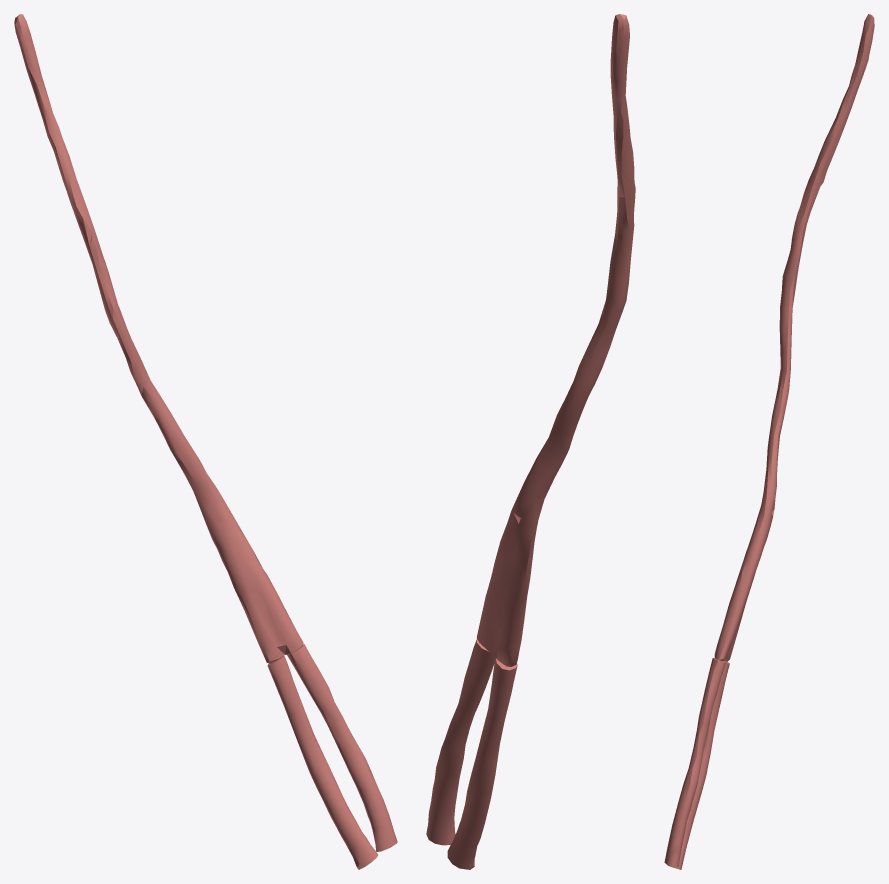
File: fma42554_mm1965m.glb
3 renders of one model, left to right at view 1: azimuth 30°, elevation 25°; view 2: azimuth 150°, elevation 25°; view 3: azimuth 270°, elevation 25°, orthographic. The views are drawn at different scales.
Parts seen in each view (by area): view 1: FMA42554_MM1965M; view 2: FMA42554_MM1965M; view 3: FMA42554_MM1965M.
Boxes of the visible parts, bbox=[...] form: FMA42554_MM1965M: bbox=[14, 14, 397, 869]; FMA42554_MM1965M: bbox=[426, 14, 635, 869]; FMA42554_MM1965M: bbox=[664, 14, 874, 869].
Size of the model in its own units: 0.066 by 0.1923 by 0.0487.
